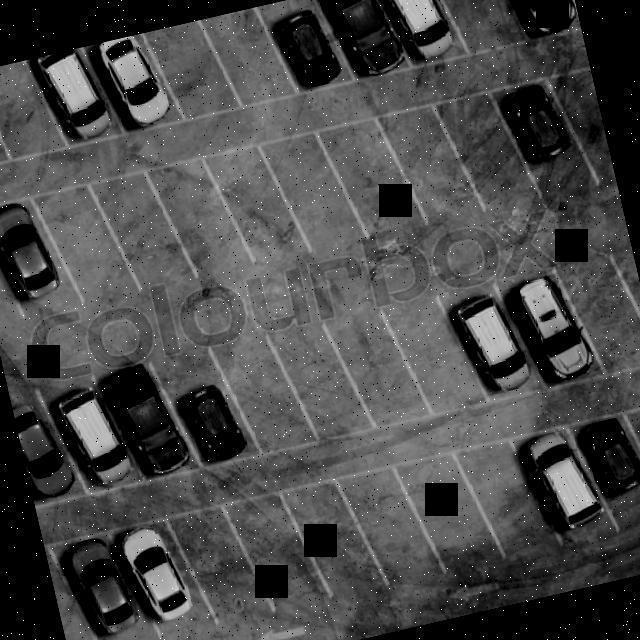space-empty: (398, 462, 552, 616), (274, 479, 410, 624), (256, 128, 376, 261), (314, 112, 434, 241), (206, 140, 322, 273), (152, 152, 264, 286), (318, 304, 433, 431), (378, 99, 492, 226), (333, 461, 445, 589), (437, 88, 550, 213), (378, 290, 490, 415), (32, 179, 140, 306), (206, 335, 319, 456), (453, 436, 560, 563), (168, 501, 277, 622), (272, 319, 378, 441), (226, 492, 332, 614), (94, 170, 195, 298), (200, 4, 298, 122), (555, 257, 640, 372), (157, 22, 235, 134), (420, 0, 532, 50), (615, 246, 640, 364), (0, 215, 22, 337), (622, 394, 640, 508)
space-occupied: (73, 352, 204, 479), (498, 279, 628, 402), (490, 73, 609, 204), (9, 33, 134, 151), (438, 276, 554, 402), (82, 27, 202, 143), (36, 374, 146, 499), (511, 422, 622, 543), (105, 518, 215, 634), (46, 531, 161, 640), (0, 189, 85, 317), (163, 376, 275, 472), (253, 1, 362, 99), (9, 388, 86, 508), (309, 0, 416, 84), (566, 407, 638, 529), (365, 1, 476, 70), (482, 0, 580, 42)
